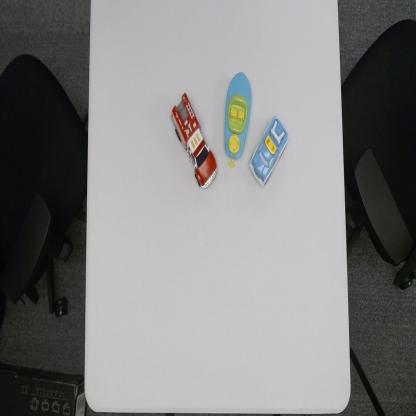Boat: (223, 70, 253, 169)
Car: (250, 115, 289, 191)
Firetruck: (170, 90, 219, 192)
